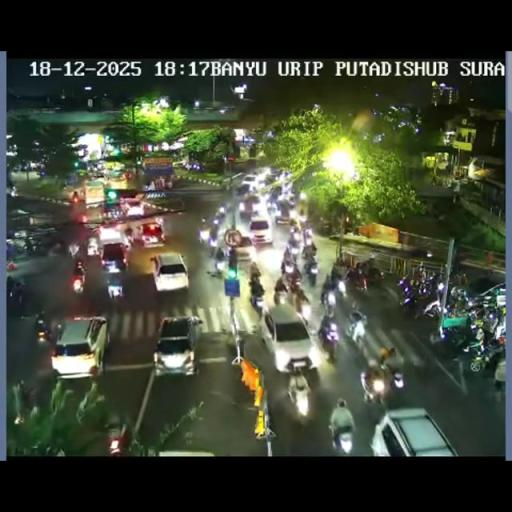Car: (370, 407, 458, 457), (258, 304, 314, 373), (50, 316, 108, 378), (153, 314, 203, 376), (150, 252, 188, 293), (104, 414, 130, 455), (100, 242, 129, 274), (248, 216, 273, 245), (233, 234, 257, 264), (138, 222, 165, 246), (240, 194, 260, 220), (120, 198, 146, 216), (274, 201, 293, 225), (240, 174, 259, 192), (266, 170, 283, 186)
Motorcycle: (246, 223, 320, 316), (427, 318, 469, 360), (466, 330, 504, 374), (462, 297, 505, 334), (10, 381, 40, 426), (360, 364, 390, 405), (286, 371, 313, 416), (398, 281, 426, 314), (346, 310, 368, 345), (447, 284, 470, 315), (332, 422, 354, 454), (346, 263, 368, 292), (34, 311, 51, 345), (421, 297, 445, 321), (319, 331, 338, 360), (294, 292, 312, 321), (282, 265, 302, 291), (320, 278, 336, 310), (248, 286, 266, 312), (106, 272, 124, 298), (427, 272, 443, 298), (304, 259, 319, 286), (12, 279, 25, 310), (46, 240, 68, 258), (390, 362, 404, 389), (71, 270, 85, 294), (104, 202, 122, 220), (287, 231, 301, 252), (86, 236, 100, 256), (451, 270, 467, 286), (318, 218, 333, 235), (335, 277, 347, 298), (412, 263, 424, 284), (274, 287, 287, 306), (214, 254, 226, 274), (302, 245, 316, 261), (302, 228, 314, 246), (249, 261, 261, 279), (68, 242, 80, 259), (215, 206, 226, 224), (282, 246, 292, 265), (25, 238, 36, 255), (124, 226, 134, 244), (208, 231, 218, 248), (298, 212, 307, 224), (299, 190, 307, 201), (10, 188, 16, 198)
